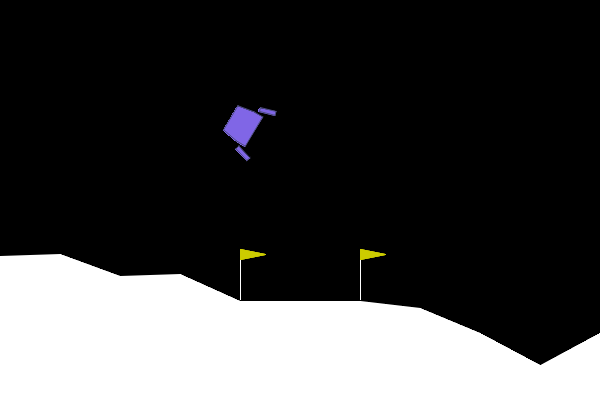lander: (213, 91, 278, 163)
